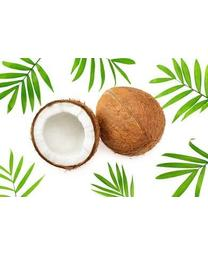coconut: (31, 98, 100, 170), (97, 87, 166, 156)
